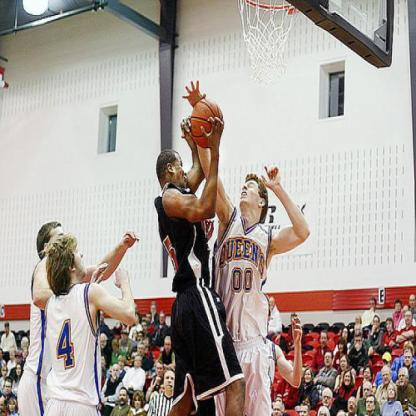basketball: (190, 99, 223, 147)
rim: (245, 0, 298, 15)
